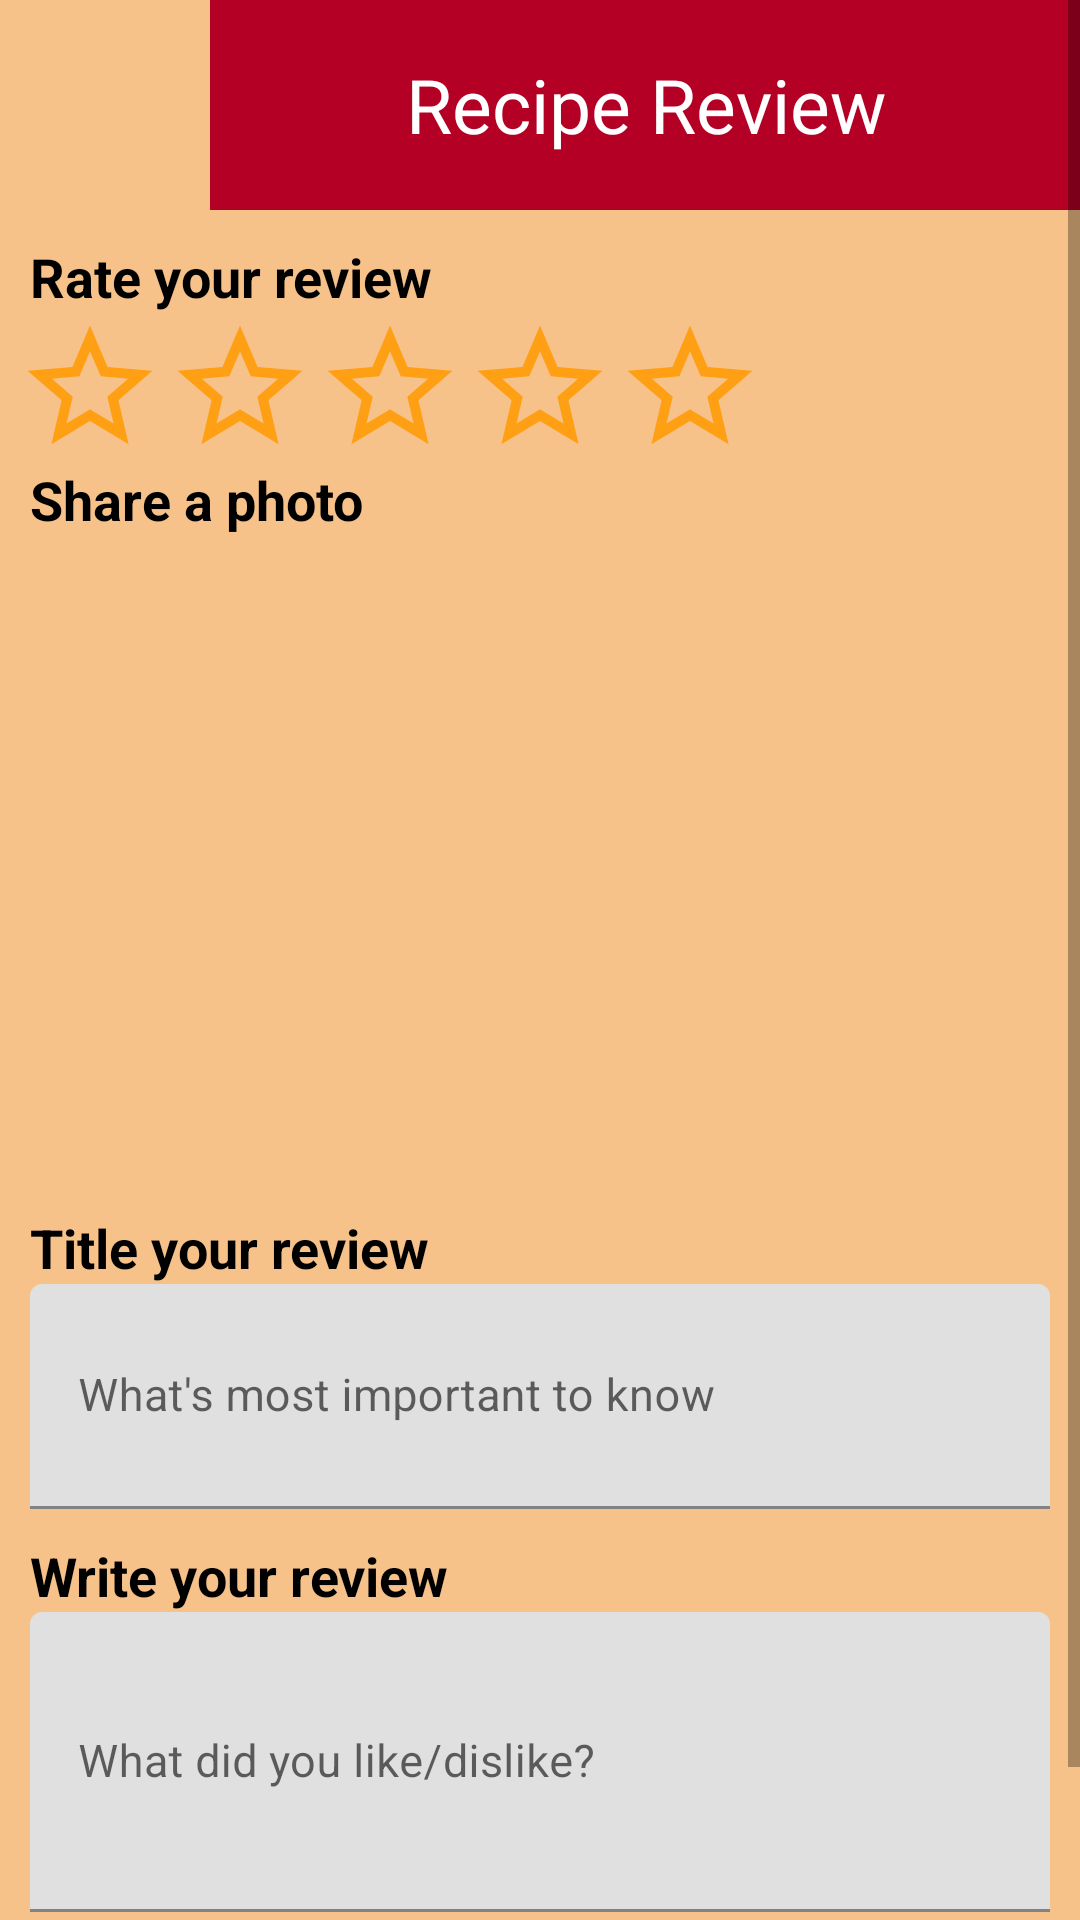

Screen size 1080 x 1920. Icon name, then its box in pixels as (x1, y1, x2, y2):
Star Icon: (28, 326, 152, 444), (178, 326, 302, 444), (328, 326, 452, 444), (478, 326, 602, 444), (628, 326, 752, 444)
